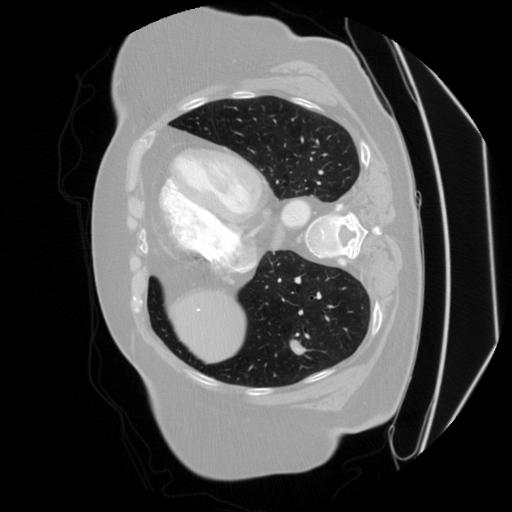nodule: (286, 337, 307, 358)
